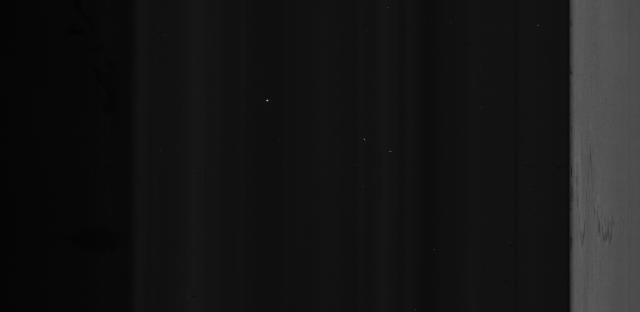silk_spot: (573, 148, 626, 268)
